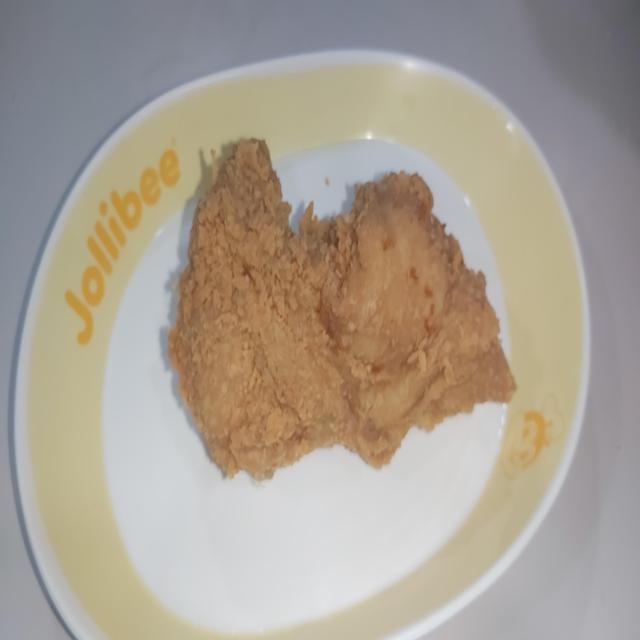Chicken -Fried Chicken-: (161, 116, 545, 479)
